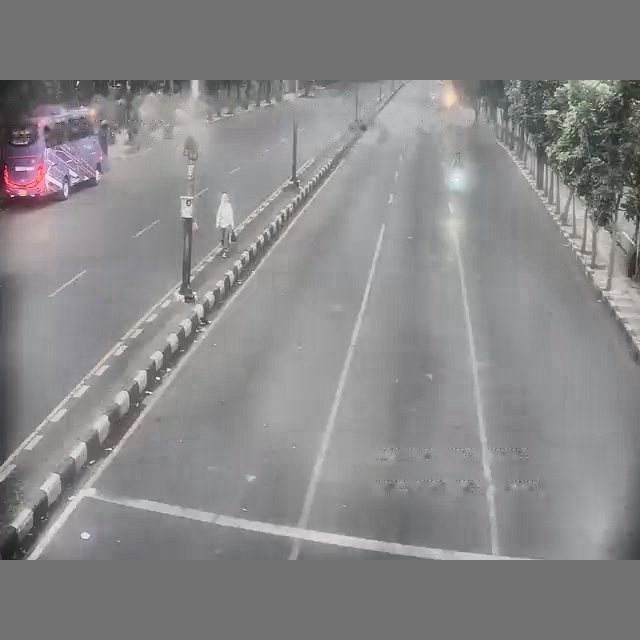Bis: (2, 105, 105, 198)
